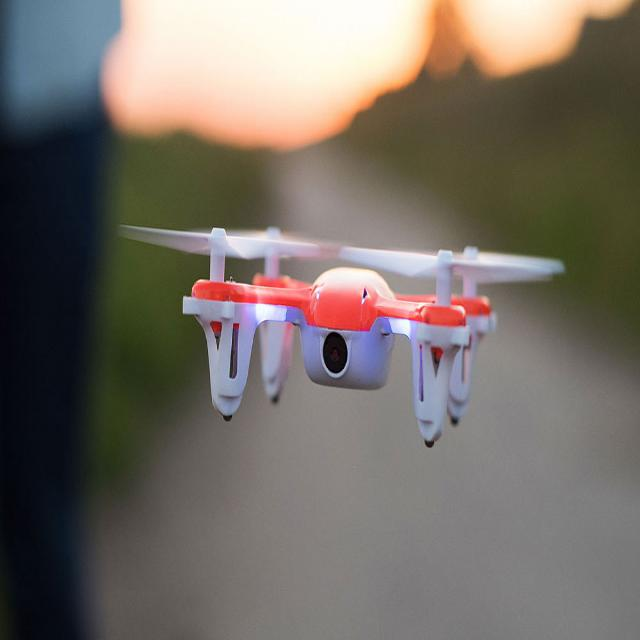drones: (109, 203, 576, 453)
